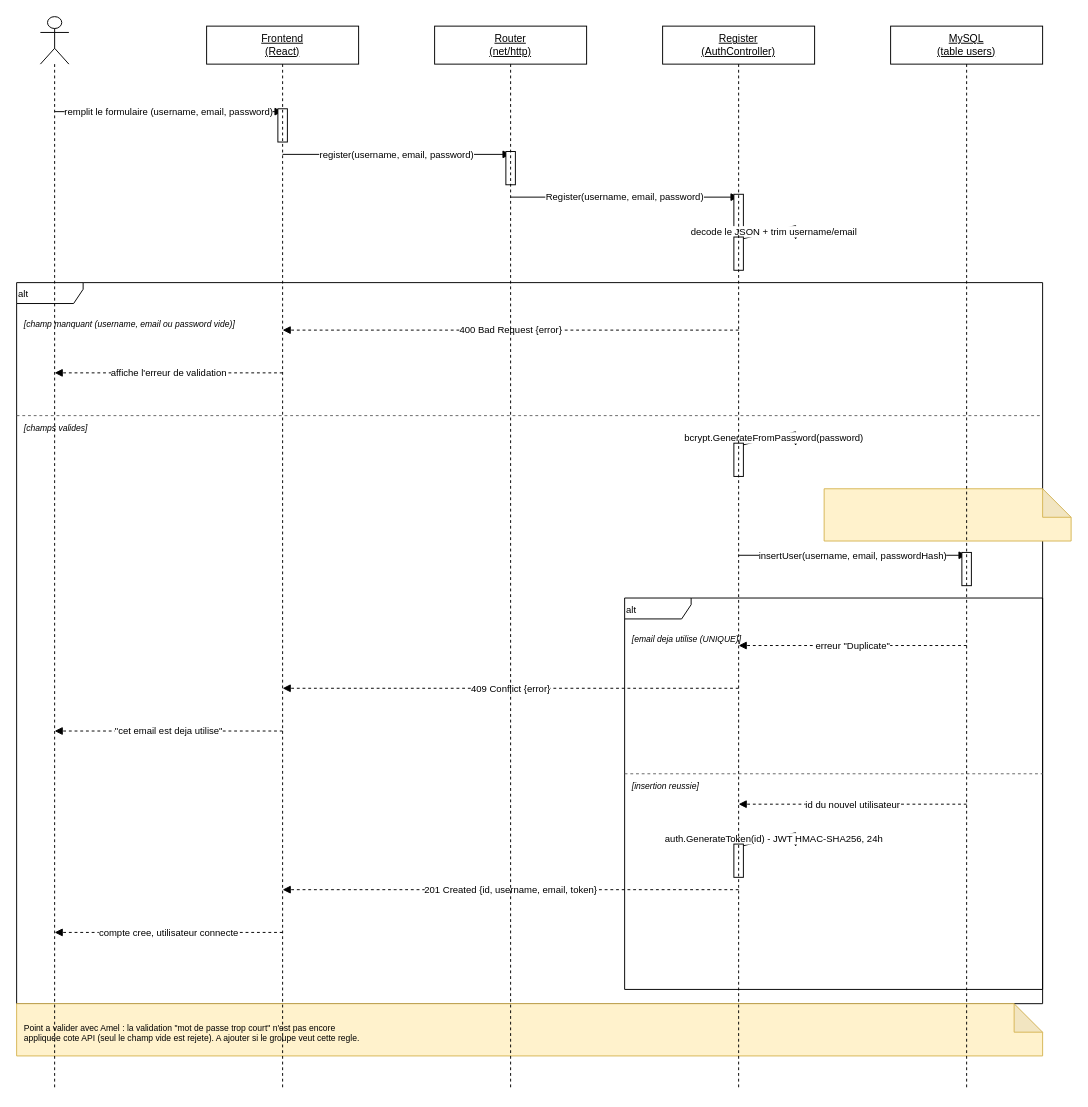
Image size: 1088x1107. Some labels were removed from this diagram. The shapes that lost their labels are listed below. From the top down, each one's centre as x and y in pixels, then its label:
[54,40]: Visiteur
[947,514]: Le mot de passe est hache avant toute ecriture en base, jamais stocke en clair.
